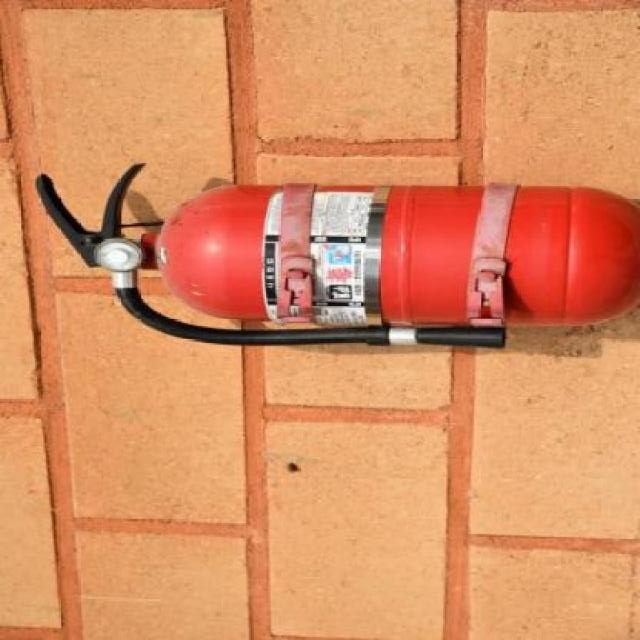fire extinguisher: (34, 164, 640, 350)
